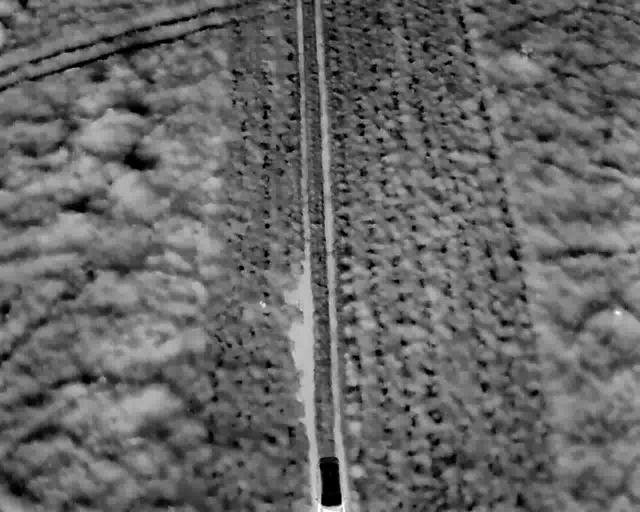car: (313, 453, 345, 511)
